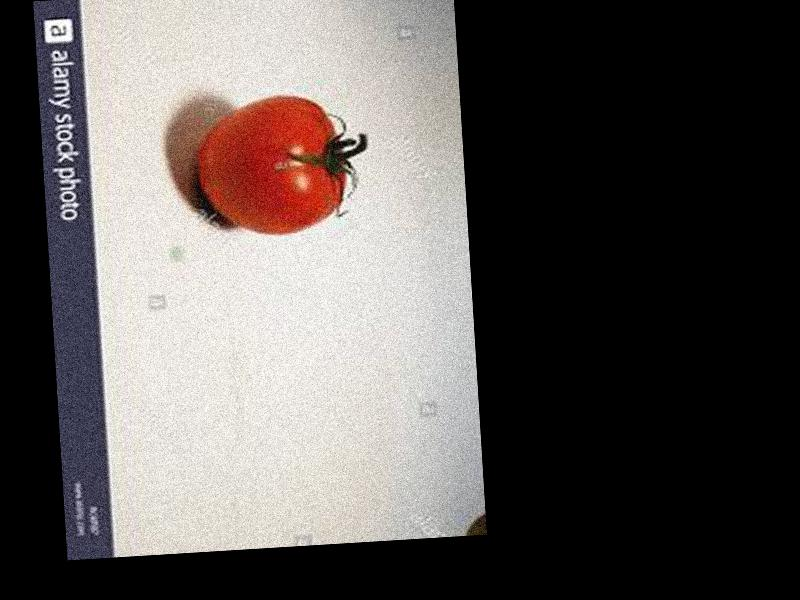Tomato: (192, 93, 347, 239)
